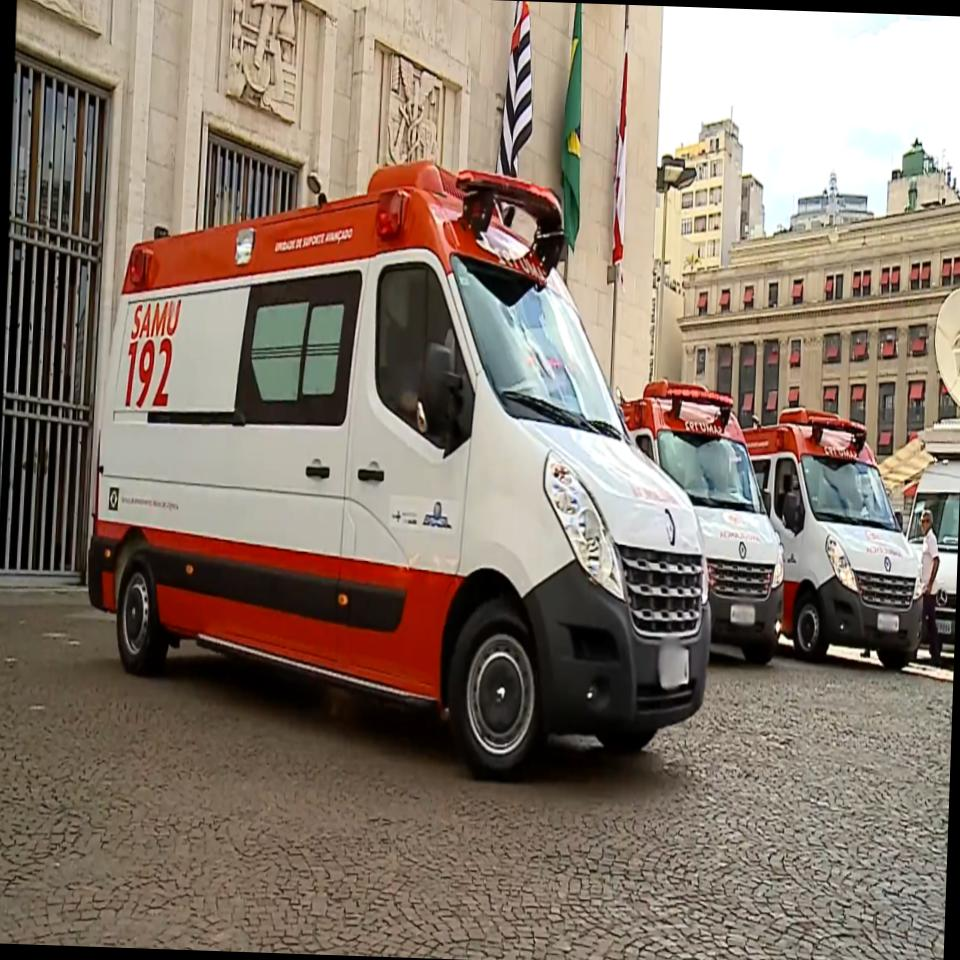bombeiro: (80, 146, 726, 790), (607, 378, 794, 665), (736, 402, 931, 676)
